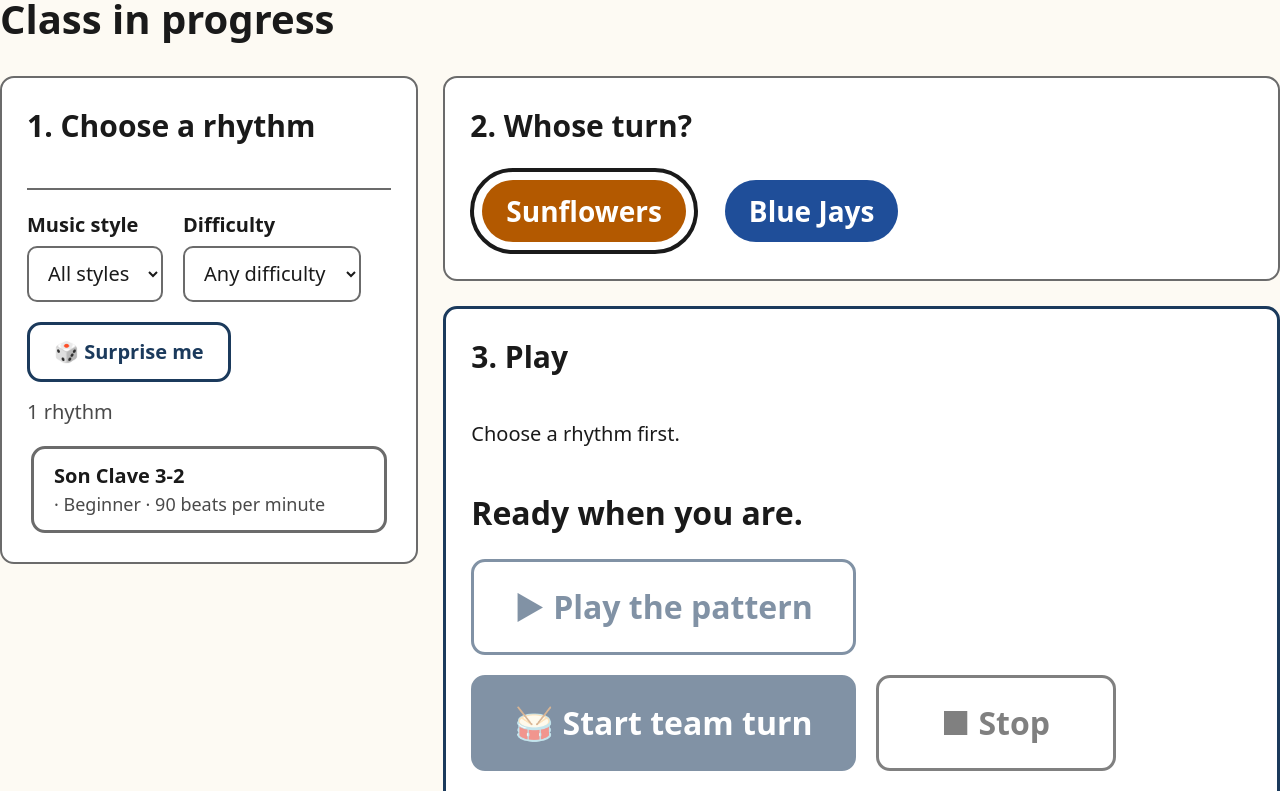
Scenario: rhythms without loops use the built-in drums
Click the button "Son Clave 3-2 · Beginner · 90 beats per minute": coordinates (209, 489) [31,446,387,533]
(page scrolled)
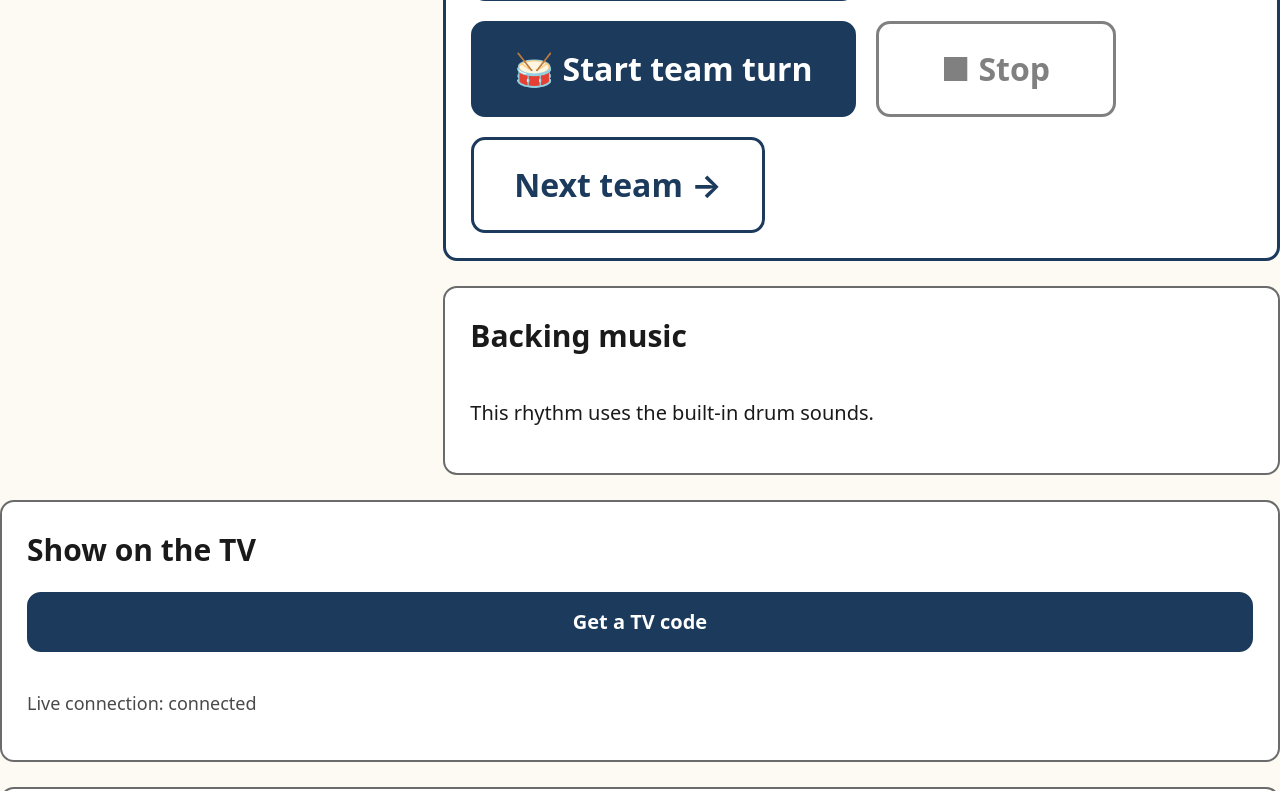
Now the text "This rhythm uses the built-in drum sounds." is shown, box [470,399,874,426]
